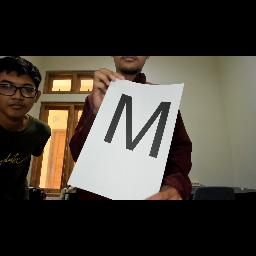m: (95, 89, 175, 163)
